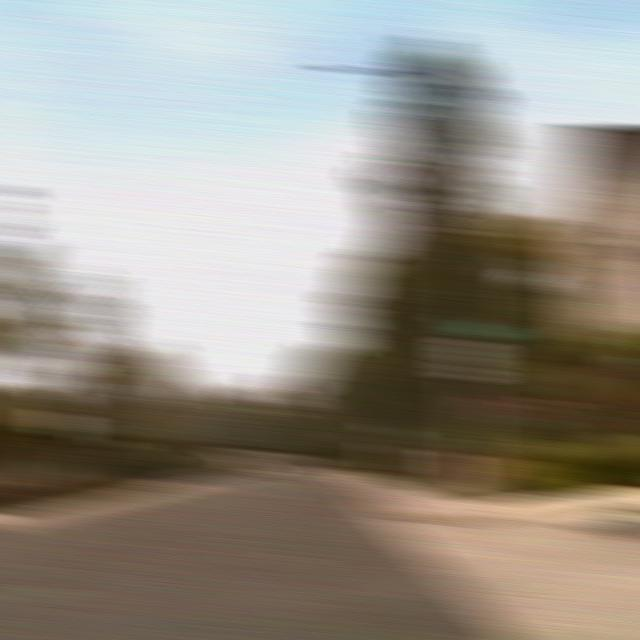speedLimit25: (443, 337, 495, 382)
